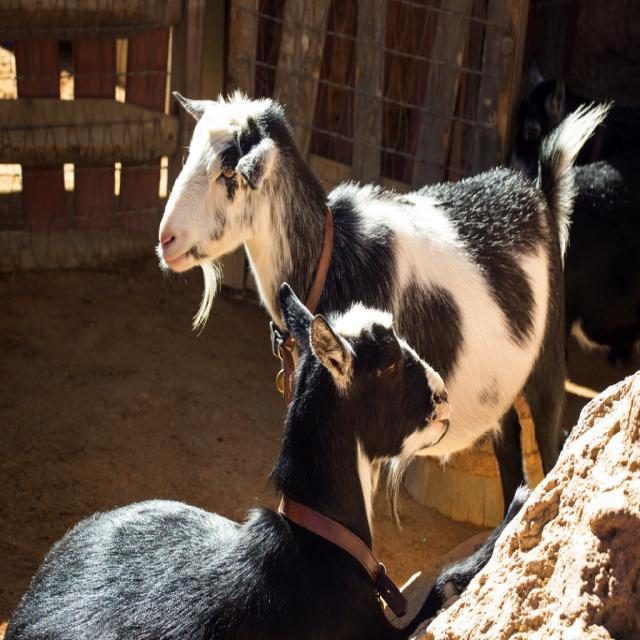Goat: (155, 82, 616, 530), (3, 281, 459, 638)
